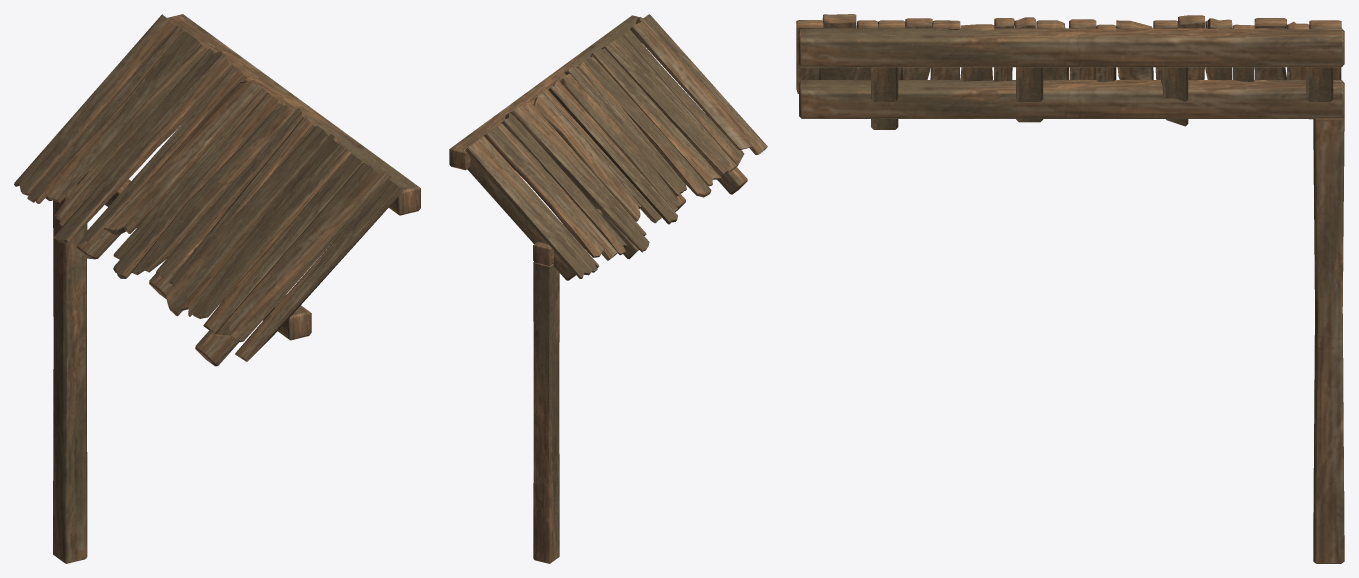
The model's file is SM_woooden_street_roof_01.fbx.
3 views of the same model, side by side, from view 1: azimuth 30°, elevation 25°; view 2: azimuth 150°, elevation 25°; view 3: azimuth 270°, elevation 25° (orthographic). The views are drawn at different scales.
Parts seen in each view (by area): view 1: SM_woooden_street_roof_01_LOD0; view 2: SM_woooden_street_roof_01_LOD0; view 3: SM_woooden_street_roof_01_LOD0.
Part boxes in pixels (bbox=[...]): SM_woooden_street_roof_01_LOD0: bbox=[14, 14, 420, 563]; SM_woooden_street_roof_01_LOD0: bbox=[449, 14, 767, 563]; SM_woooden_street_roof_01_LOD0: bbox=[796, 14, 1344, 563].
Bounding box in the file's own units: 187 × 402 × 485.
2 materials, 2 textured.
